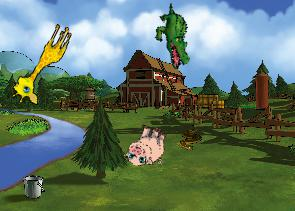crocodile: (143, 2, 205, 71)
giraffe: (7, 16, 75, 110)
pig: (122, 120, 171, 172)
